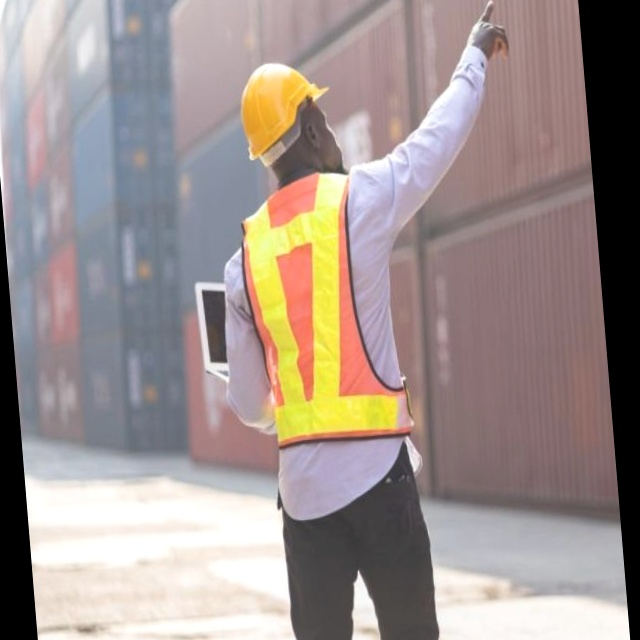Con_Casco: (237, 57, 344, 181)
Con_Chaleco: (234, 172, 421, 456)
